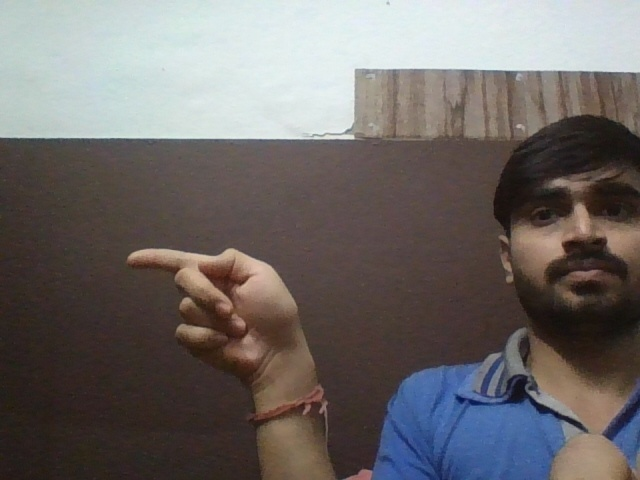G: (120, 243, 318, 386)
